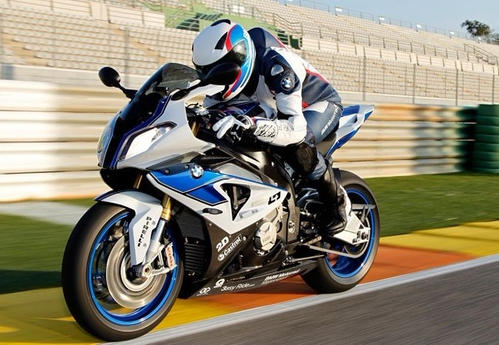motor: (56, 28, 399, 328)
